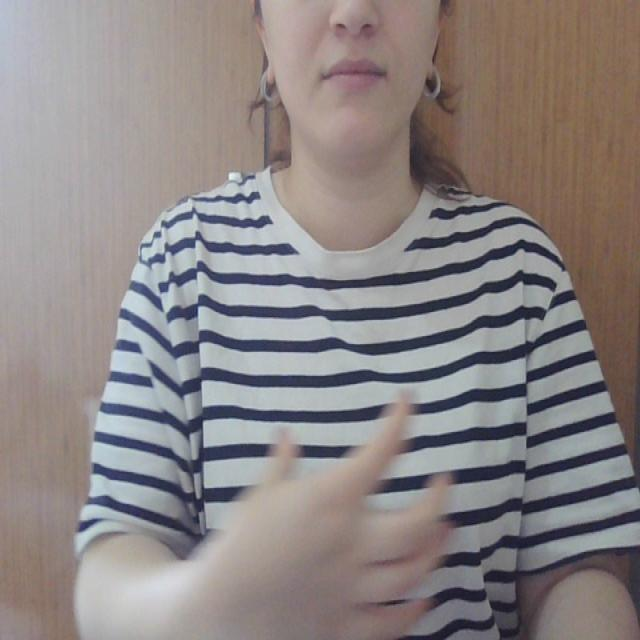Anne: (193, 402, 540, 640)
